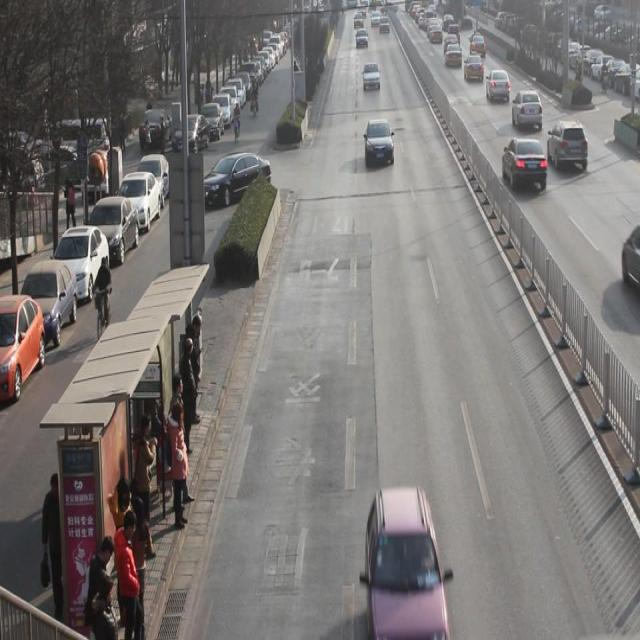car: (366, 487, 448, 640), (204, 151, 274, 208), (502, 136, 549, 192), (547, 118, 589, 172), (364, 118, 394, 168), (512, 88, 543, 132), (486, 67, 511, 104), (463, 50, 485, 82), (362, 61, 380, 92), (445, 40, 463, 66), (470, 30, 487, 57), (356, 27, 368, 50), (379, 15, 390, 34), (371, 9, 382, 28), (353, 10, 364, 28)
